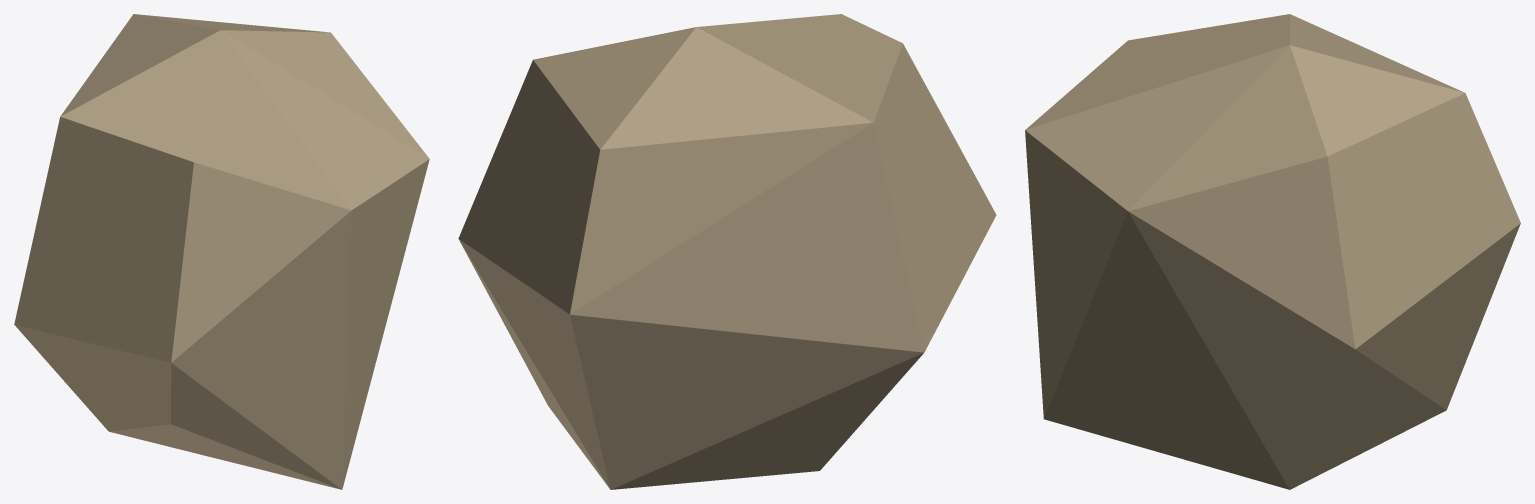
The model's file is Rock-A06.fbx.
3 renders of one model, left to right at view 1: azimuth 30°, elevation 25°; view 2: azimuth 150°, elevation 25°; view 3: azimuth 270°, elevation 25°, orthographic. The views are drawn at different scales.
Visible parts, largest first — view 1: Rock-A06; view 2: Rock-A06; view 3: Rock-A06.
Boxes of the visible parts, <box> form: Rock-A06: <box>14,14,429,489</box>; Rock-A06: <box>458,14,996,489</box>; Rock-A06: <box>1025,14,1520,489</box>.
Bounding box in the file's own units: 52.8 × 48.66 × 57.74.
